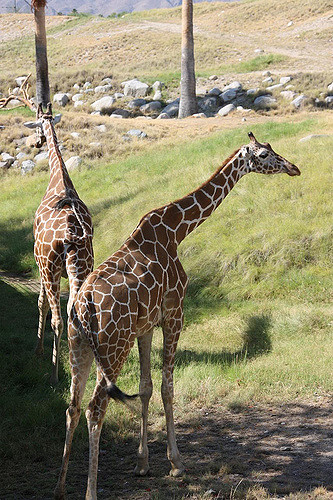giraffe: (58, 126, 306, 473), (21, 99, 108, 311)
